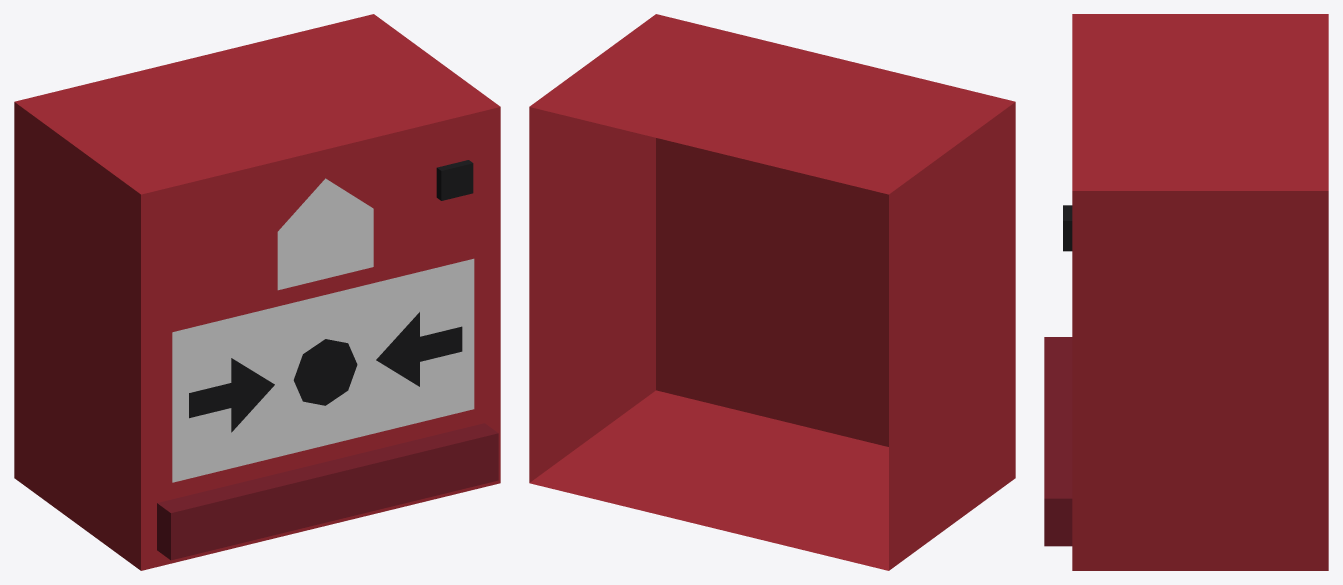
Rendered from call_point.glb.
The picture shows the model from 3 angles, left to right: view 1: azimuth 30°, elevation 25°; view 2: azimuth 150°, elevation 25°; view 3: azimuth 270°, elevation 25°; orthographic projection.
Visible parts, largest first — view 1: call_point; view 2: call_point; view 3: call_point.
Boxes of the visible parts, x1,y1,x2,y2 form: call_point: (14,14,500,570); call_point: (529,14,1015,570); call_point: (1044,14,1328,570).
Bounding box in the file's own units: 0.09 × 0.09 × 0.061.
